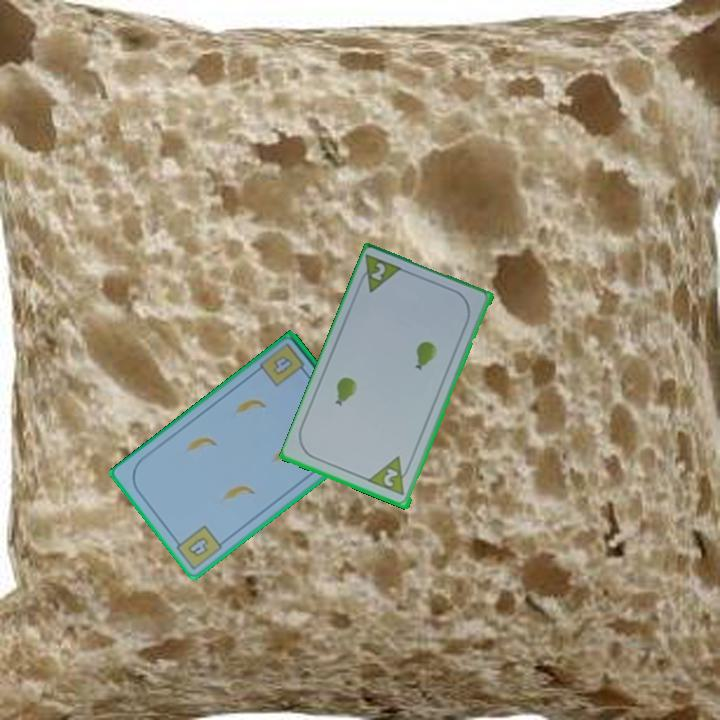2p: (380, 465, 401, 490), (368, 259, 389, 284)
4b: (170, 522, 225, 570), (269, 352, 296, 379)
